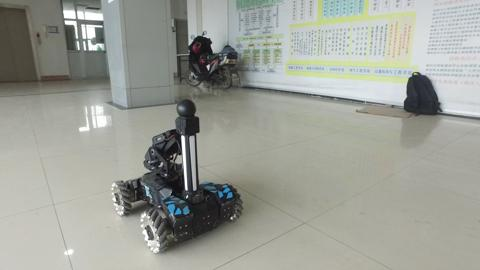bag: (397, 68, 453, 123)
chariot: (98, 97, 256, 255)
